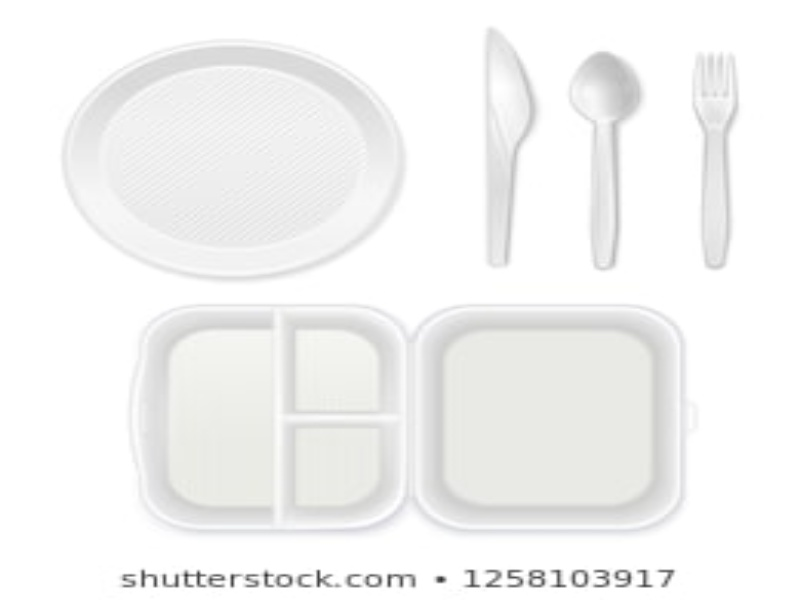plastic-plate: (134, 302, 680, 535), (57, 38, 409, 280)
plastic-silverware: (570, 52, 651, 270), (480, 27, 536, 267), (692, 49, 743, 271)
